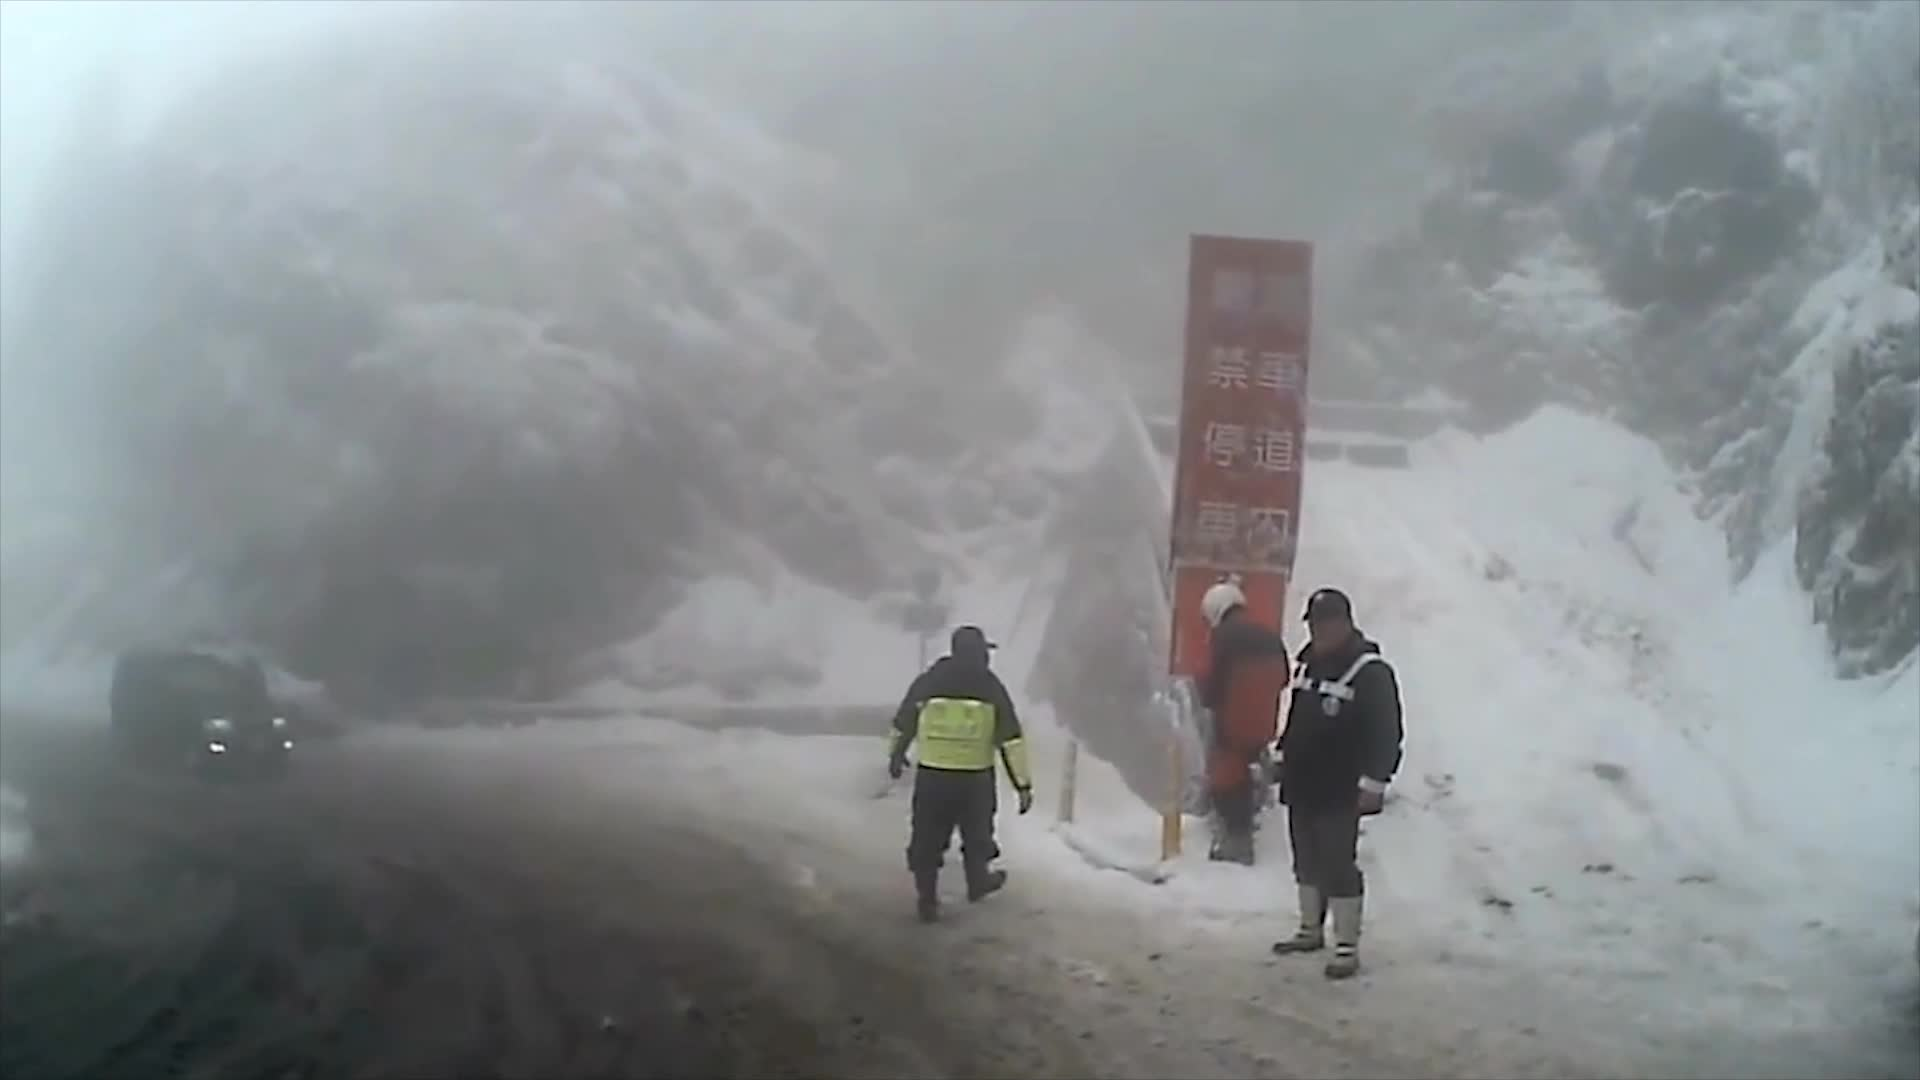pedestrian: (1266, 588, 1396, 987), (880, 624, 1038, 920), (1176, 590, 1288, 849)
vehicle: (110, 643, 294, 778)
